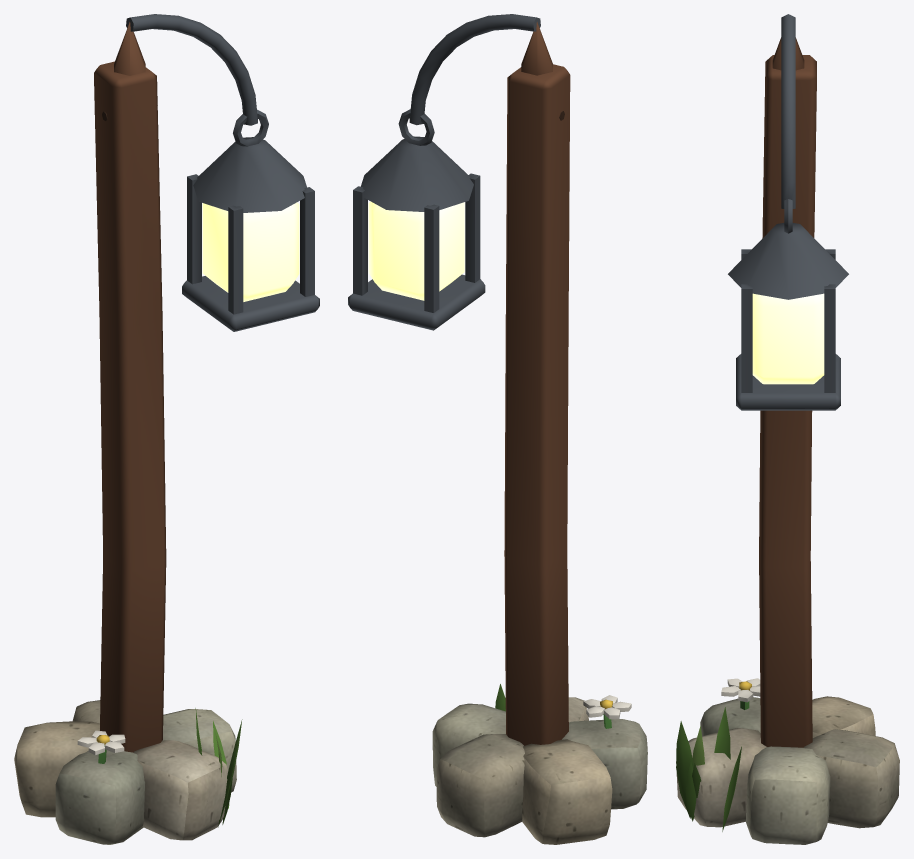
Rendered from lantern.gltf.
3 renders of one model, left to right at view 1: azimuth 30°, elevation 25°; view 2: azimuth 150°, elevation 25°; view 3: azimuth 270°, elevation 25°, orthographic.
Parts seen in each view (by area): view 1: Lantern, Stones; view 2: Lantern, Stones; view 3: Lantern, Stones.
Boxes of the visible parts, <box> form: Lantern: <box>77,14,319,827</box>; Stones: <box>14,700,236,844</box>; Lantern: <box>348,14,631,745</box>; Stones: <box>432,697,647,844</box>; Lantern: <box>676,14,848,831</box>; Stones: <box>676,696,899,844</box>.
Bounding box in the file's own units: 0.8412 × 2.38 × 0.6068.
Materials: 13 (1 with a texture image).
